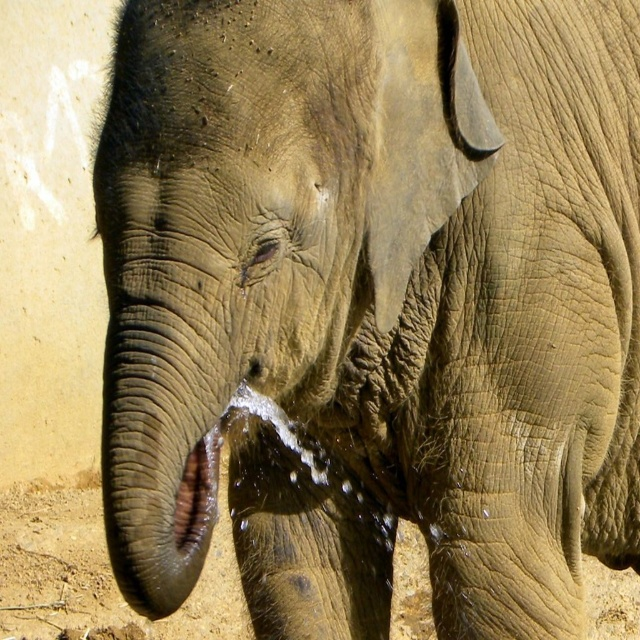Elephant: (56, 0, 640, 640)
